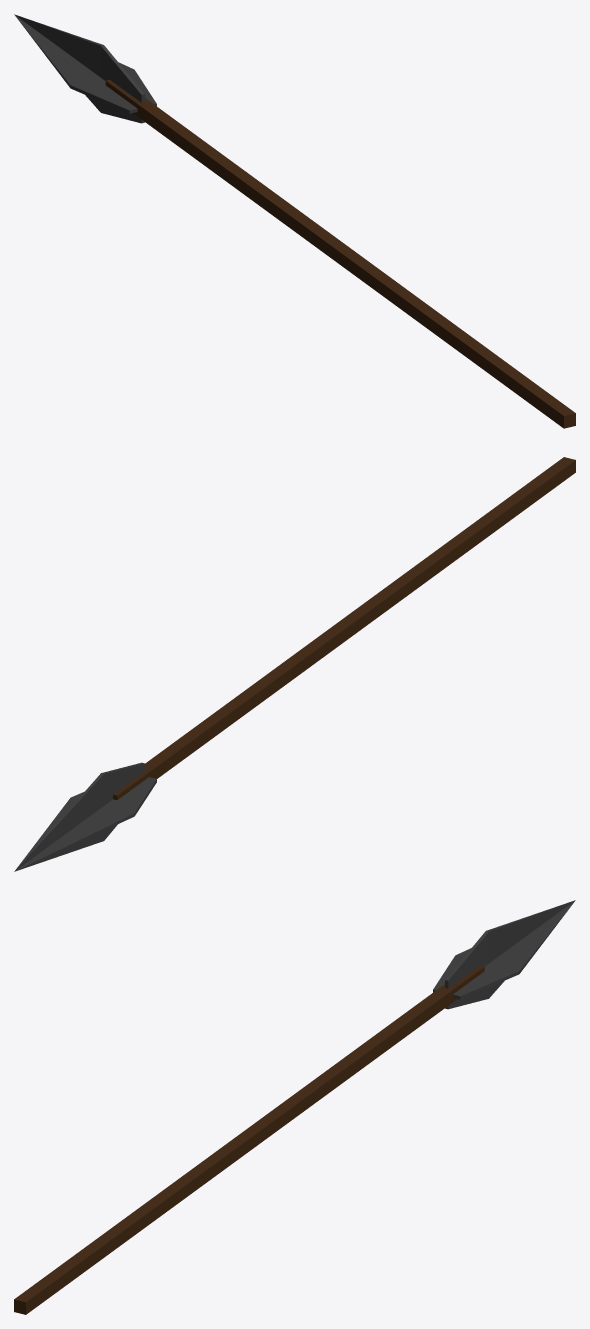
File: BalistaArrow.fbx
3 renders of one model, top to bottom at view 1: azimuth 30°, elevation 25°; view 2: azimuth 150°, elevation 25°; view 3: azimuth 330°, elevation 25°, orthographic.
Visible parts, largest first — view 1: Spear; view 2: Spear; view 3: Spear.
Boxes of the visible parts, left/top/right/bottom form: Spear: left=14, top=14, right=575, bottom=428; Spear: left=14, top=457, right=575, bottom=871; Spear: left=14, top=900, right=575, bottom=1314.
Size of the model in its own units: 27.74 by 27.74 by 417.
